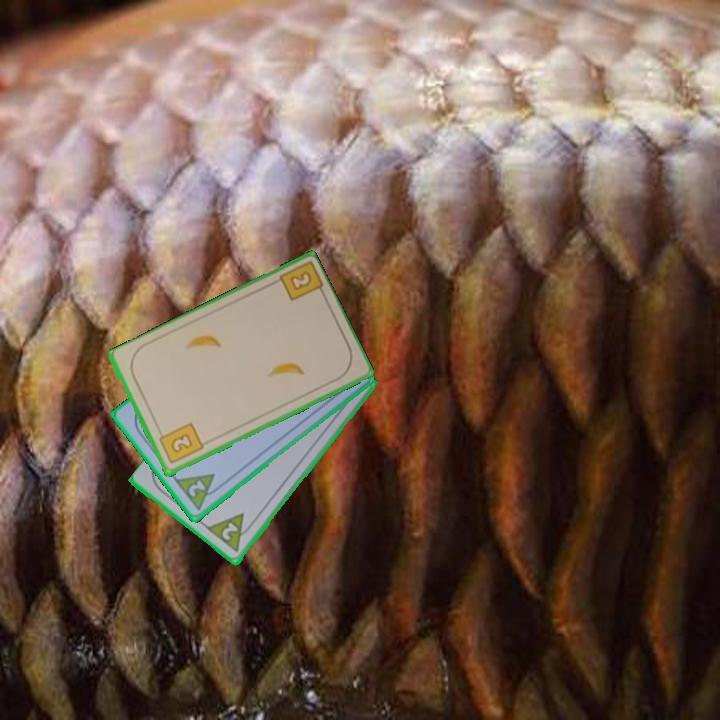2b: (155, 419, 206, 467), (286, 268, 315, 294)
2p: (171, 470, 226, 514), (218, 519, 241, 544)
